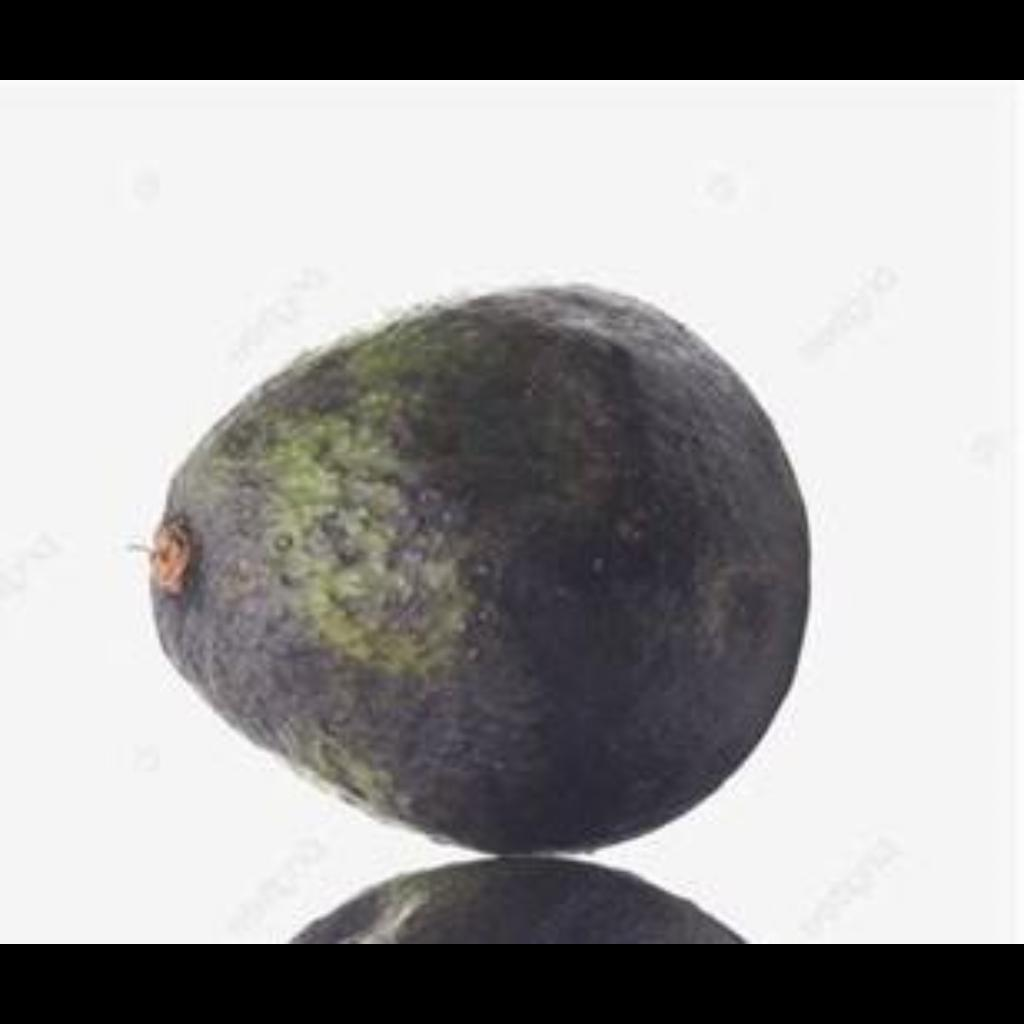antracnosis_fruto: (159, 334, 811, 839)
